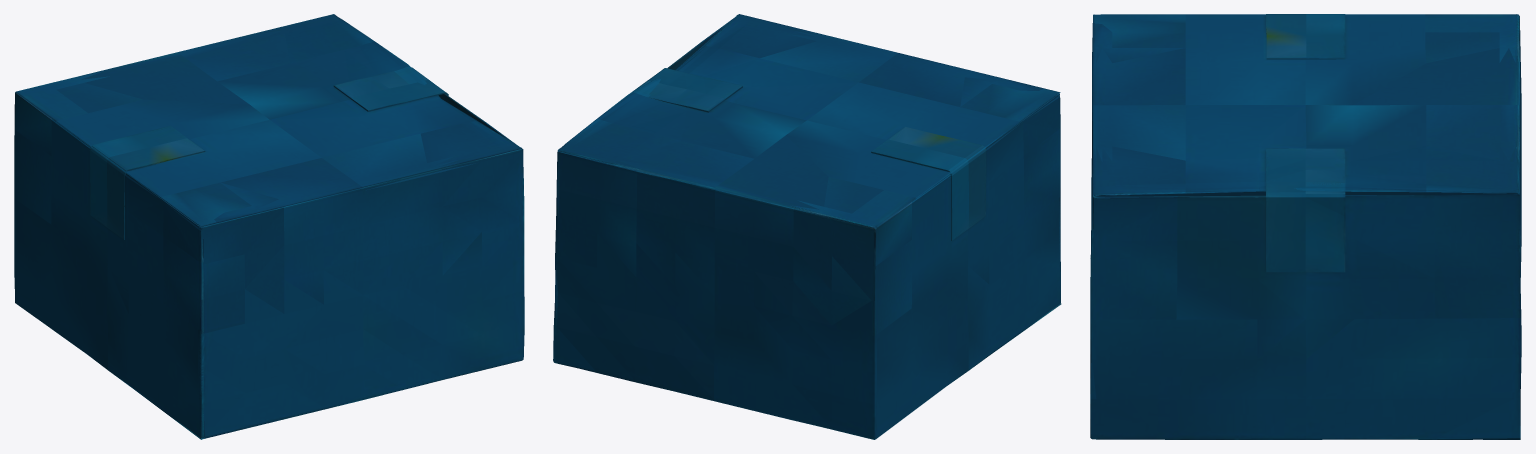
The model's file is rectangular-parcel.glb.
3 renders of one model, left to right at view 1: azimuth 30°, elevation 25°; view 2: azimuth 150°, elevation 25°; view 3: azimuth 270°, elevation 25°, orthographic. The views are drawn at different scales.
Parts seen in each view (by area): view 1: tripo_node_501222b1-97cf-4582-a835-eac54d238d1c; view 2: tripo_node_501222b1-97cf-4582-a835-eac54d238d1c; view 3: tripo_node_501222b1-97cf-4582-a835-eac54d238d1c.
Boxes of the visible parts, x1=… form: tripo_node_501222b1-97cf-4582-a835-eac54d238d1c: x1=14, y1=14, x2=524, y2=439; tripo_node_501222b1-97cf-4582-a835-eac54d238d1c: x1=553, y1=14, x2=1061, y2=439; tripo_node_501222b1-97cf-4582-a835-eac54d238d1c: x1=1090, y1=14, x2=1521, y2=439.
Size of the model in its own units: 0.998 by 0.6348 by 0.998.
Materials: 1 (1 with a texture image).
